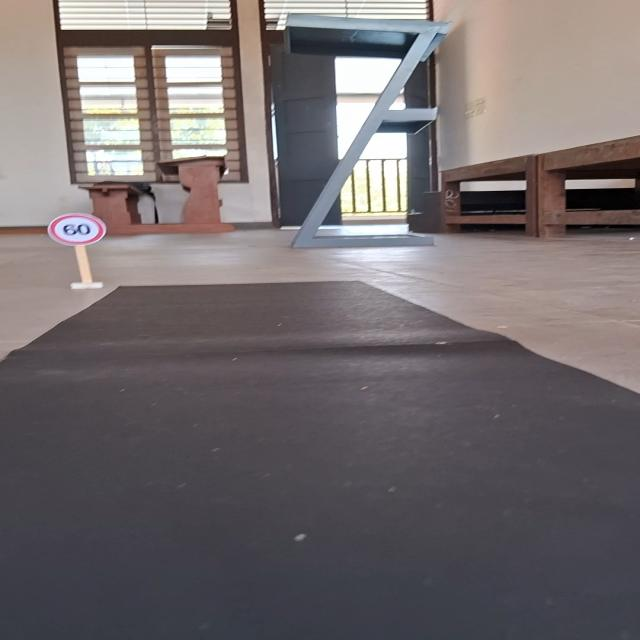Speed60: (46, 212, 106, 248)
